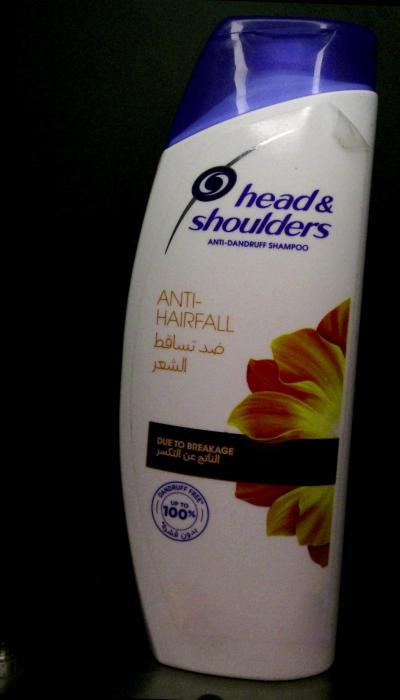adhesion_unacc: (332, 104, 374, 156)
